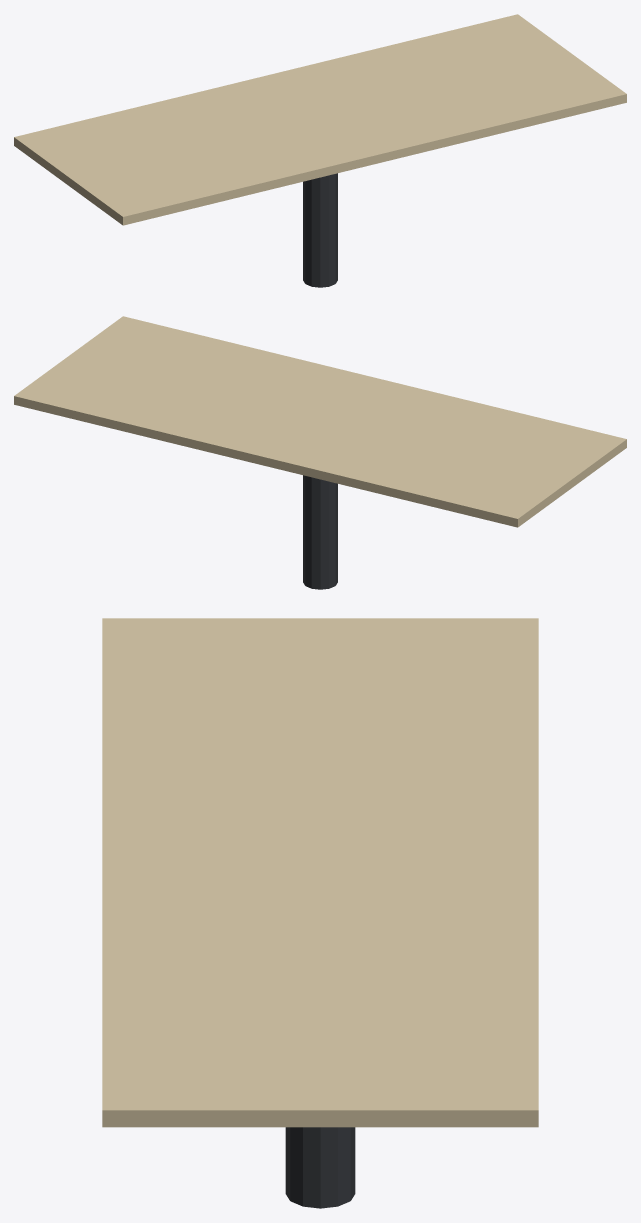
The model's file is communal_table_96.glb.
3 views of the same model, one above another, from view 1: azimuth 30°, elevation 25°; view 2: azimuth 150°, elevation 25°; view 3: azimuth 270°, elevation 25° (orthographic). The views are drawn at different scales.
Size of the model in its own units: 2.44 by 0.762 by 0.9144.
